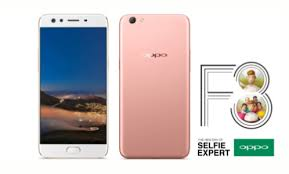oppo: (34, 11, 113, 160), (114, 11, 193, 160)
